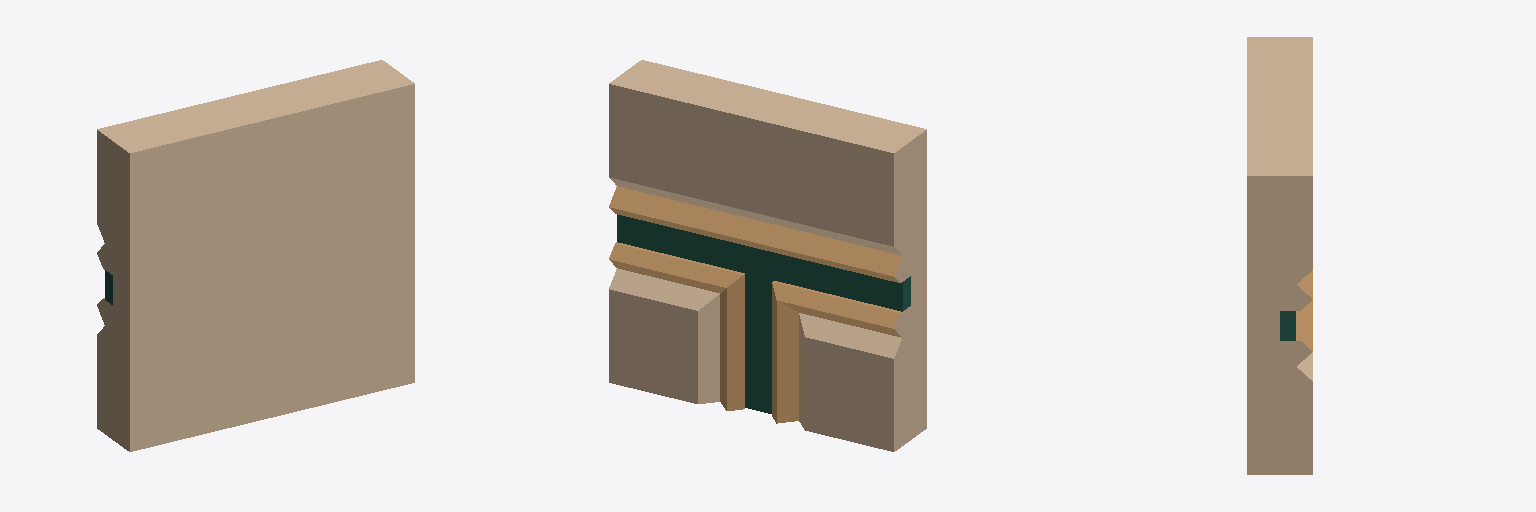
File: Puzzle_Wall_Conduit_Path_TJoint.obj
3 renders of one model, left to right at view 1: azimuth 30°, elevation 25°; view 2: azimuth 150°, elevation 25°; view 3: azimuth 270°, elevation 25°, orthographic.
Parts seen in each view (by area): view 1: object2; view 2: object2, object1; view 3: object2.
Boxes of the visible parts, x1,y1,x2,y2 form: object2: [97, 60, 414, 451]; object2: [609, 60, 926, 451]; object1: [617, 214, 910, 413]; object2: [1247, 37, 1312, 474].
Size of the model in its own units: 1 by 1 by 0.2.